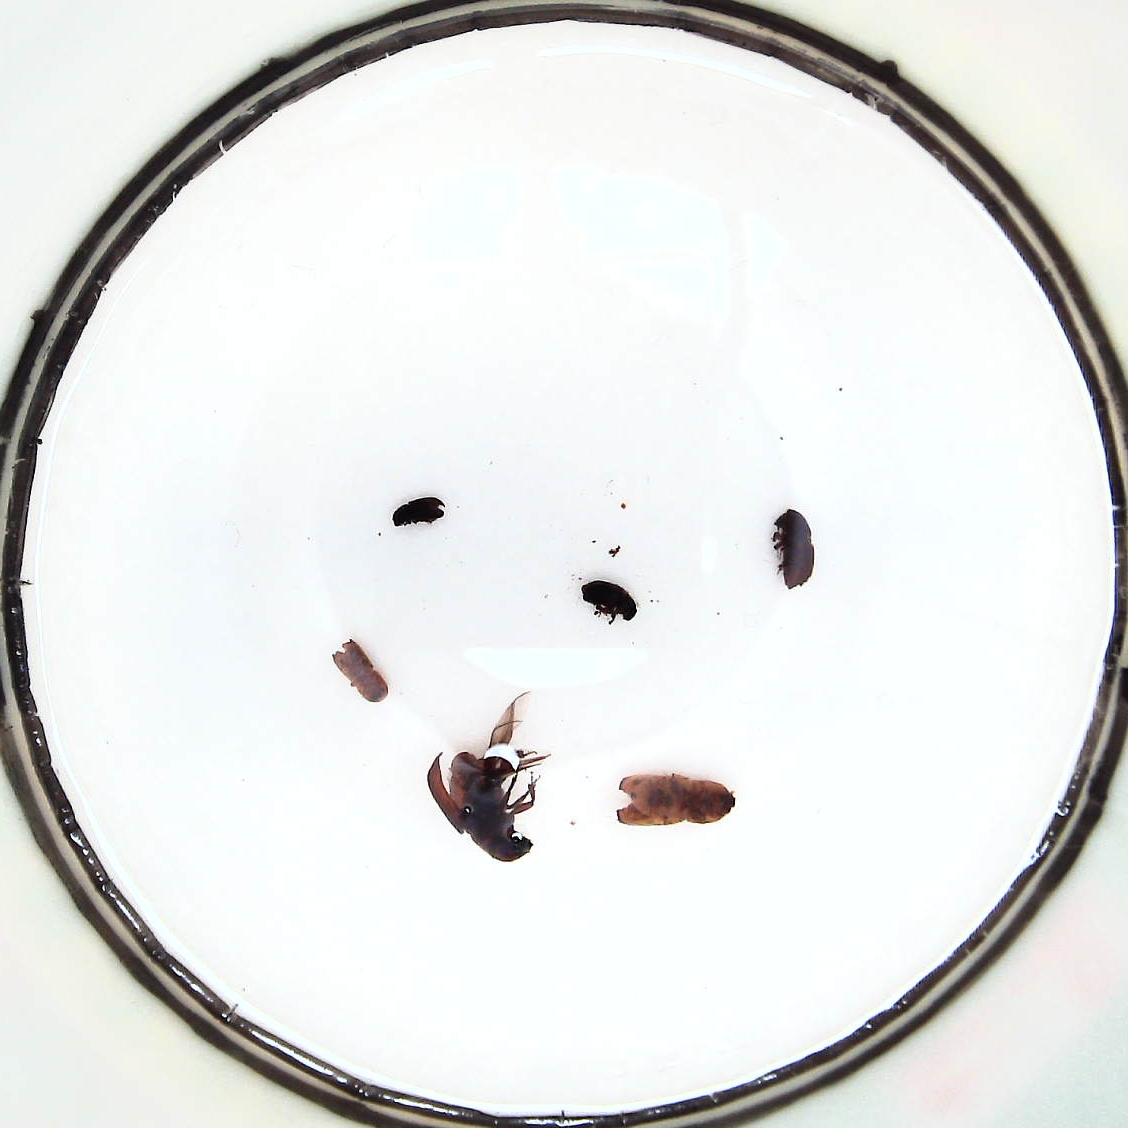Boerner: (617, 773, 737, 826)
Leconte: (426, 750, 534, 861)
acuminatus: (393, 497, 445, 526)
armandi: (332, 639, 389, 701)
coleoptera: (579, 579, 637, 621)
linnaeus: (774, 508, 814, 590)
